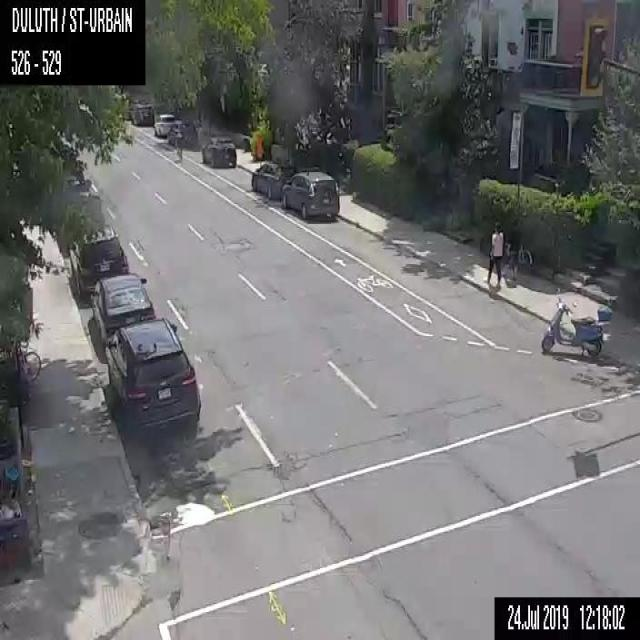construction: (254, 134, 261, 158)
pedestrian: (485, 222, 503, 286)
vehicle: (105, 320, 200, 436), (90, 274, 158, 350), (70, 223, 126, 300), (541, 302, 602, 357), (281, 169, 339, 220), (250, 161, 296, 200), (202, 134, 236, 166), (168, 122, 196, 146), (154, 113, 176, 137)
